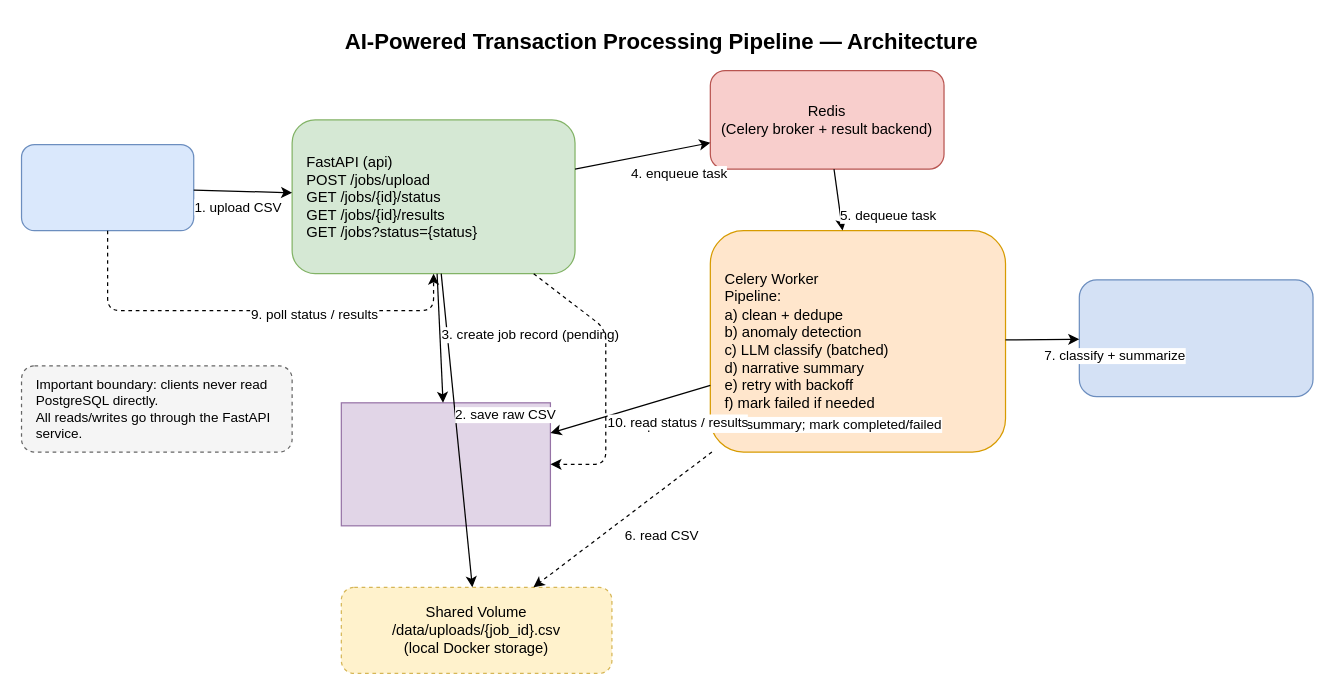
Some shapes in this 1335 by 695 pixel diagram are drawn without their labels. Each missing label, with the centre of its shape:
Client (curl / Swagger UI): the point at 107,187
LLM Provider Gemini 1.5 Flash (fallback: local deterministic stub): the point at 1195,338
PostgreSQL jobs / transactions / job_summaries: the point at 445,464
